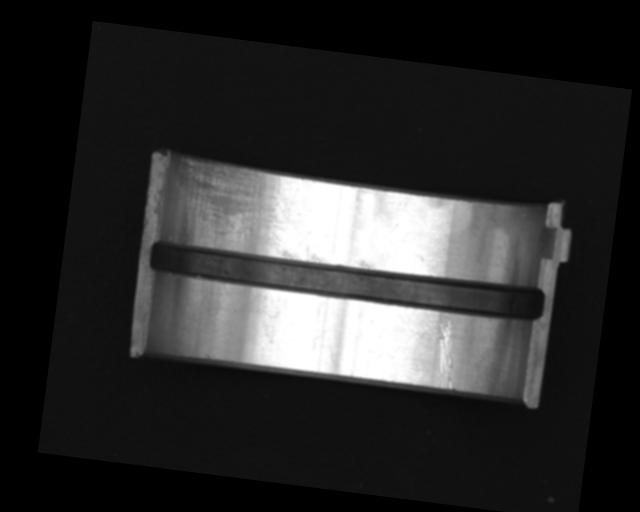gap: (148, 236, 547, 323)
nick: (430, 318, 463, 391)
scratch: (168, 154, 306, 259)
